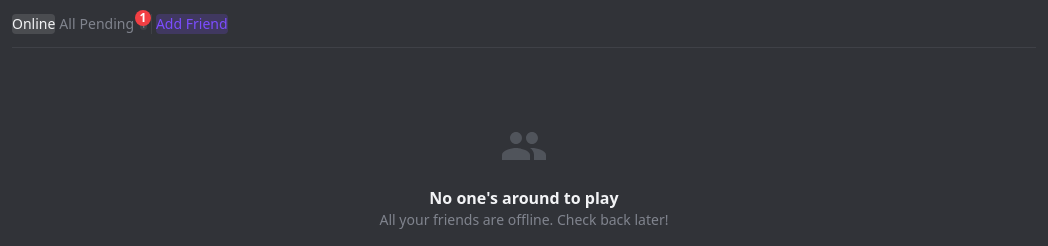
Test: FriendsView — Pending tab › shows incoming requests
The width and height of the screenshot is (1048, 246).
Click the button "Pending 1 1" at (113, 24), box [80,14,147,34]
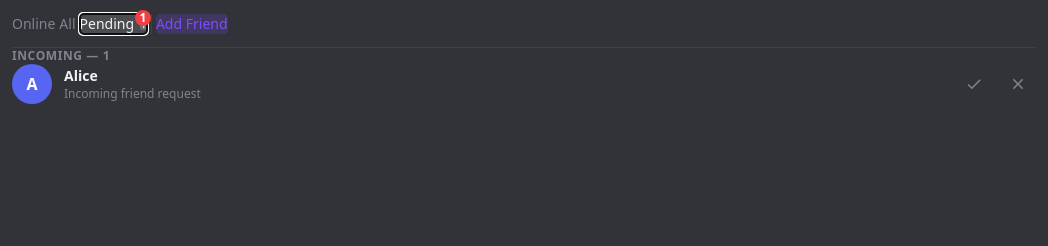
Expected: the text "Alice" is shown, [64,66,98,85]
Expected: the text "Incoming — 1" is shown, [12,48,110,64]
